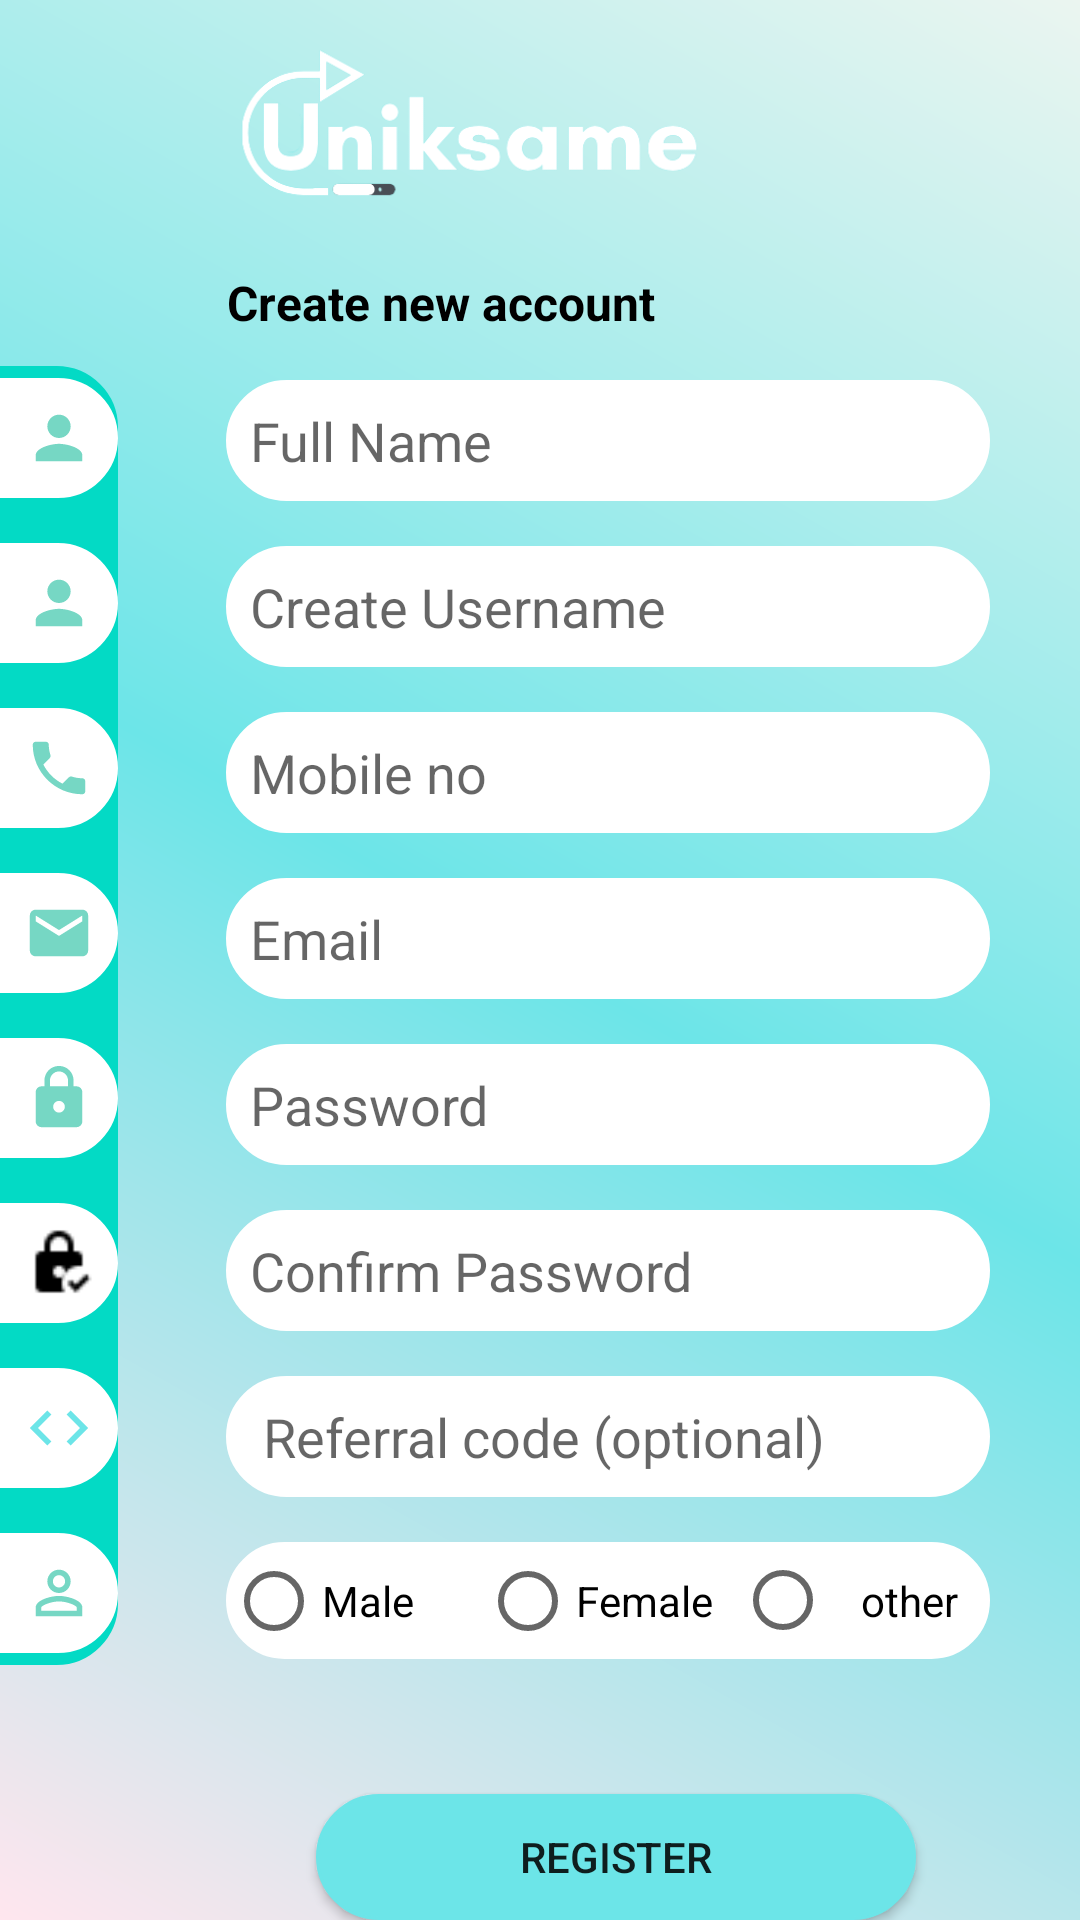

Point at icon controls on the screen. Image size 1080 × 1920, points as point (x, y).
local phone: point (59, 768)
lock: point (59, 1098)
lock check: point (59, 1263)
perm identity: point (59, 1593)
person: point (59, 438), point (59, 603)
